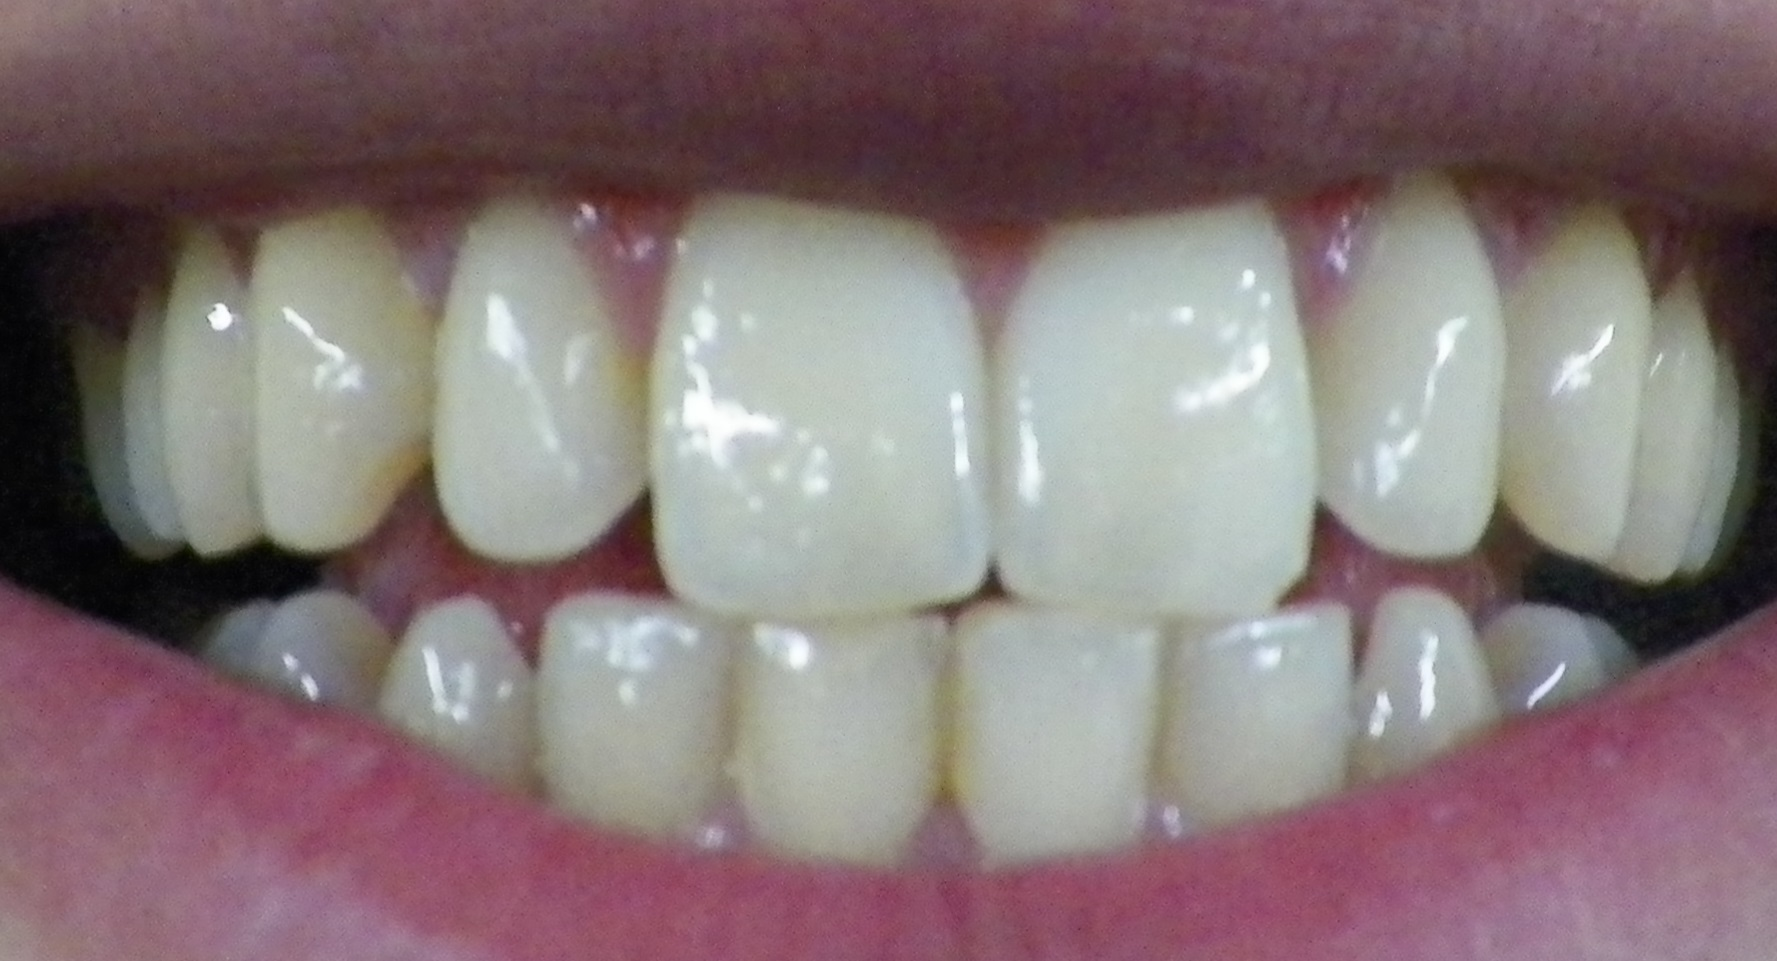boca: (60, 198, 1751, 858)
